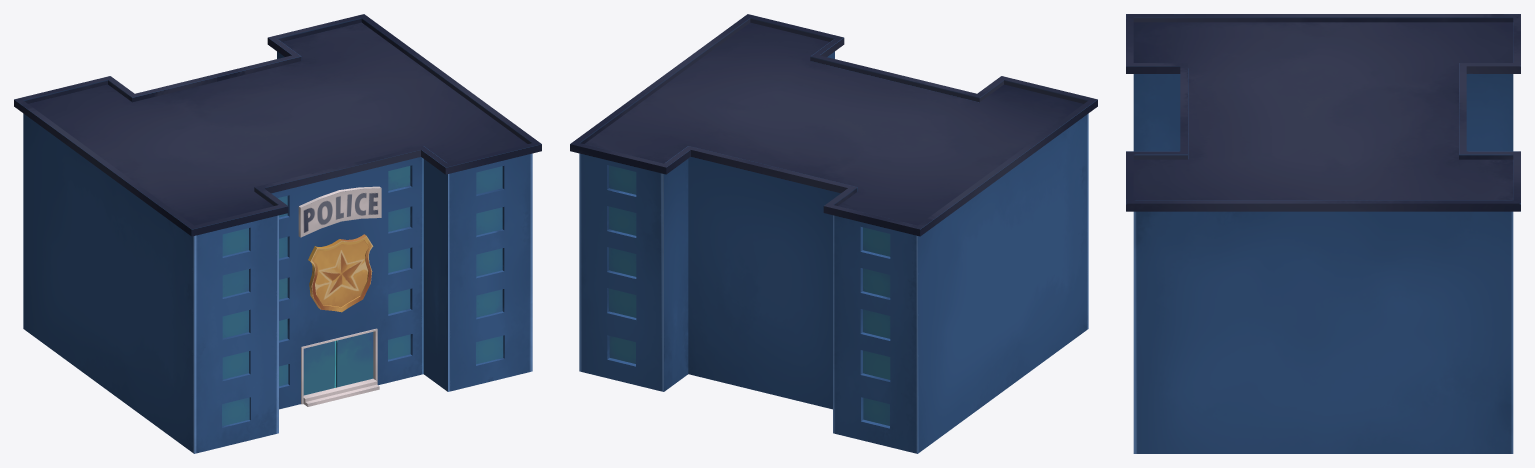
File: SM_ARCH_PoliceStation.fbx
The picture shows the model from 3 angles, left to right: view 1: azimuth 30°, elevation 25°; view 2: azimuth 150°, elevation 25°; view 3: azimuth 270°, elevation 25°; orthographic projection. The views are drawn at different scales.
Visible parts, largest first — view 1: m_policeStation; view 2: m_policeStation; view 3: m_policeStation.
Boxes of the visible parts, x1,y1,x2,y2 form: m_policeStation: [14, 14, 541, 453]; m_policeStation: [570, 14, 1097, 453]; m_policeStation: [1126, 14, 1520, 453].
Size of the model in its own units: 1656 by 1032 by 1456.
Materials: 1 (1 with a texture image).
